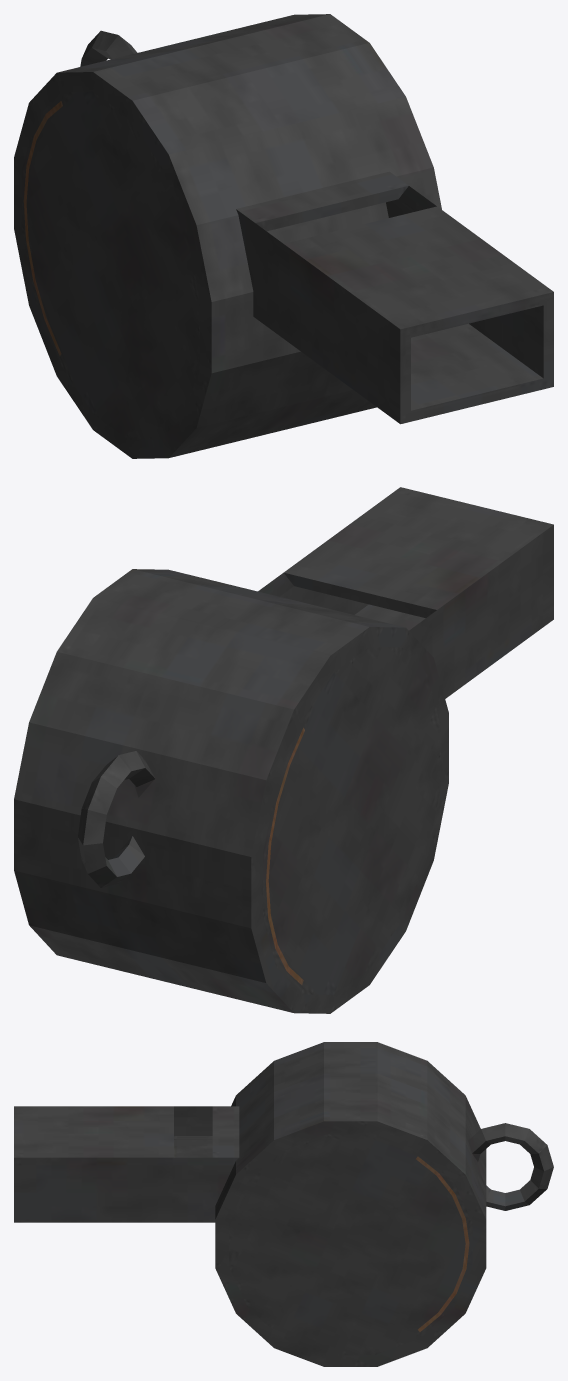
Rendered from P13_metal_whistle.glb.
3 renders of one model, top to bottom at view 1: azimuth 30°, elevation 25°; view 2: azimuth 150°, elevation 25°; view 3: azimuth 270°, elevation 25°, orthographic. The views are drawn at different scales.
Parts seen in each view (by area): view 1: Pea chamber; view 2: Pea chamber; view 3: Pea chamber.
Part boxes in pixels (x1,y1,x2,y2): Pea chamber: [14, 14, 553, 458]; Pea chamber: [14, 487, 553, 1013]; Pea chamber: [14, 1042, 553, 1366].
Size of the model in its own units: 0.0355 by 0.0501 by 0.1.
3 materials, 3 textured.
